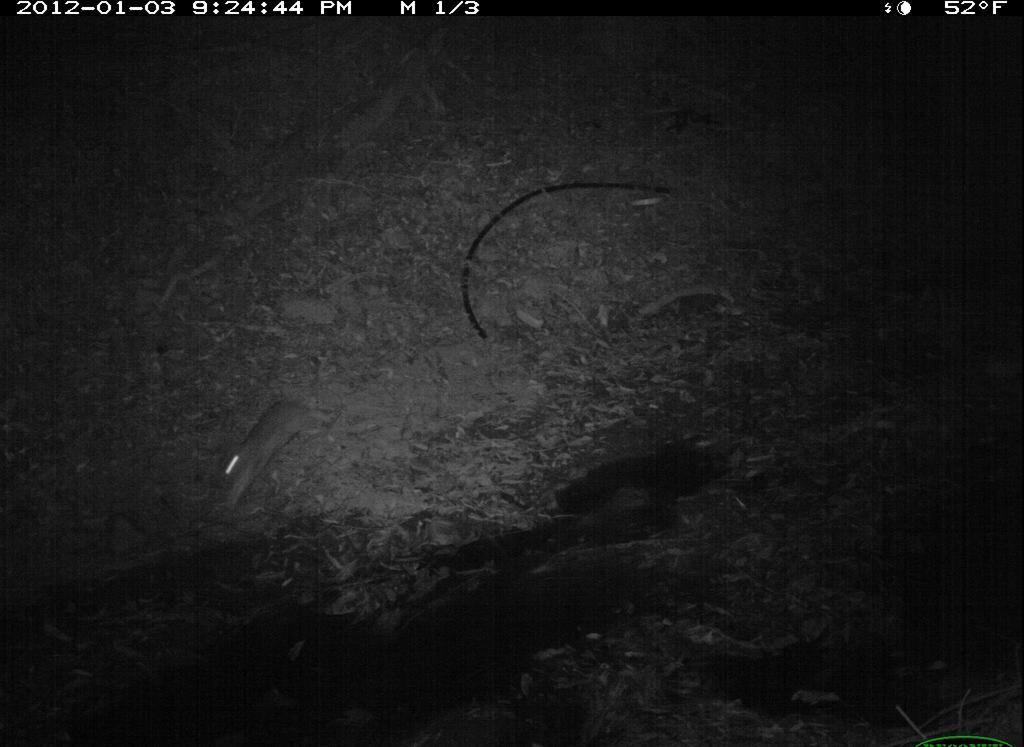rabbit: (191, 391, 345, 509)
